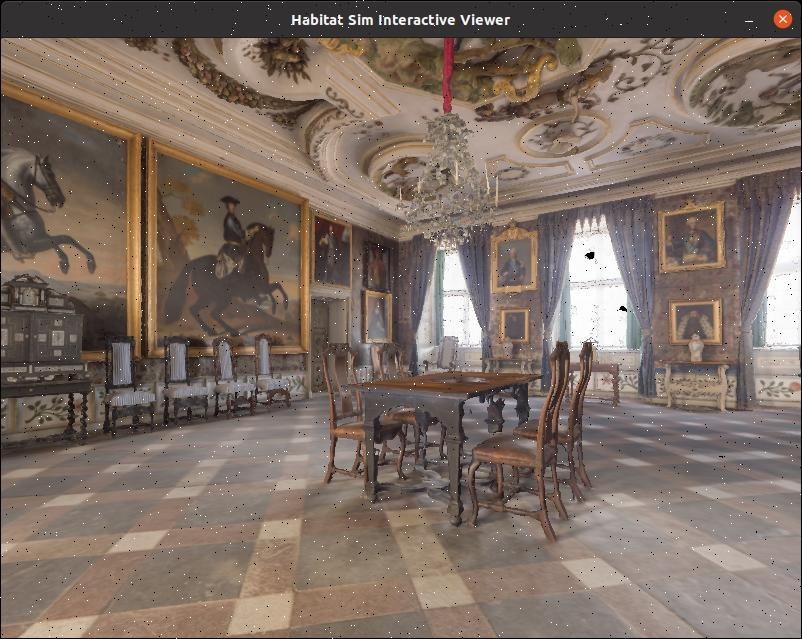chair: (453, 333, 581, 523), (510, 337, 619, 514), (315, 337, 422, 498), (151, 305, 216, 456), (191, 325, 260, 434), (239, 331, 300, 427), (107, 341, 165, 424)
table: (331, 355, 545, 522)
